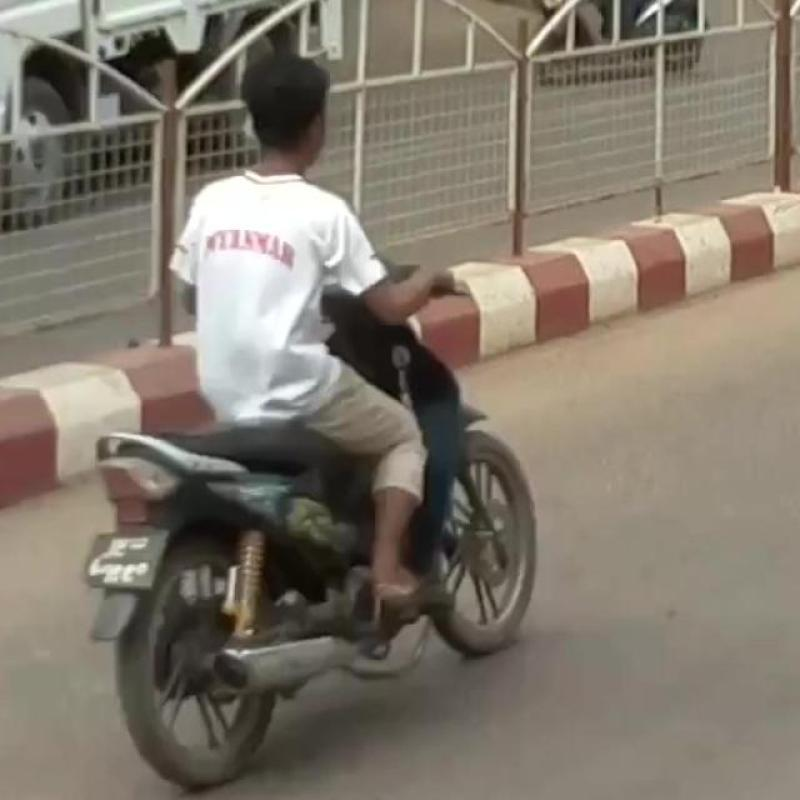nohelmet: (239, 24, 390, 222)
